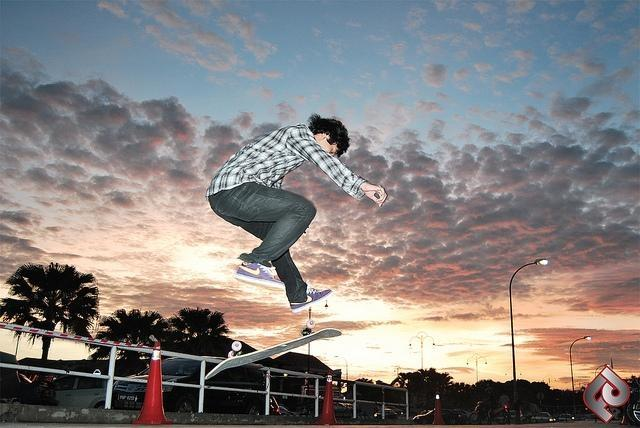car: (112, 358, 268, 415), (52, 375, 108, 409), (17, 373, 59, 407), (413, 408, 461, 424), (374, 408, 398, 418), (454, 410, 468, 418), (334, 404, 346, 412)
